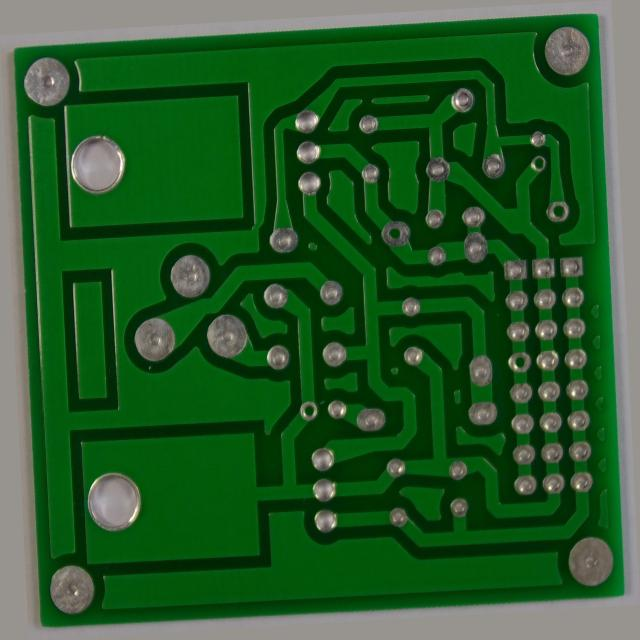missing_hole: (384, 214, 423, 251), (512, 362, 540, 392), (290, 402, 317, 429), (560, 206, 587, 231), (544, 155, 567, 181)
